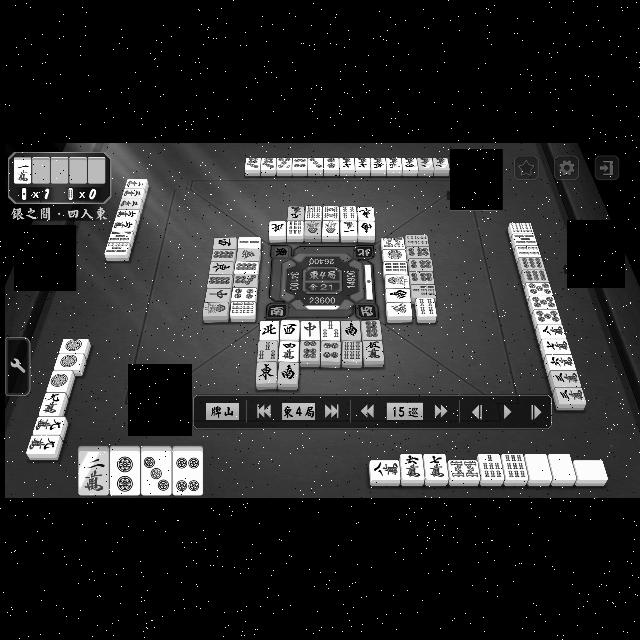1m: (13, 156, 33, 184), (341, 220, 357, 242)
1p: (26, 434, 64, 460), (38, 391, 66, 414), (34, 415, 66, 435), (46, 371, 72, 392), (56, 354, 85, 372), (62, 336, 90, 354), (381, 248, 407, 260)
1s: (202, 302, 228, 322), (320, 220, 340, 244), (384, 274, 410, 286), (306, 219, 320, 241)
2m: (79, 448, 109, 494), (124, 178, 148, 188)
2p: (110, 448, 140, 494), (323, 155, 339, 179)
2s: (238, 235, 260, 249)
3m: (552, 386, 586, 409), (546, 368, 582, 386), (122, 187, 146, 199), (119, 198, 143, 208)
3p: (141, 450, 171, 494), (307, 155, 323, 177)
3s: (322, 320, 340, 340), (258, 340, 276, 360)
4m: (401, 154, 417, 178), (280, 340, 298, 360)
4p: (174, 451, 202, 494), (320, 339, 340, 361), (231, 286, 257, 300), (292, 155, 308, 175)
4s: (416, 296, 438, 324), (512, 244, 542, 256), (404, 234, 428, 246), (340, 203, 356, 220)
5m: (364, 338, 384, 362), (386, 156, 402, 178), (372, 154, 386, 176)
5p: (527, 295, 559, 309), (532, 309, 564, 323), (276, 154, 292, 178), (524, 282, 554, 294)
5s: (106, 240, 130, 260), (508, 233, 540, 243), (108, 229, 134, 241)
6m: (542, 354, 580, 370), (401, 454, 425, 478), (116, 208, 140, 220), (113, 218, 137, 230)
6p: (300, 341, 318, 362), (409, 270, 435, 284), (409, 258, 433, 270), (407, 246, 431, 258)
6s: (229, 300, 255, 320), (343, 339, 363, 361), (508, 222, 534, 234), (304, 204, 322, 220)
7m: (427, 454, 448, 478), (539, 339, 571, 353), (339, 154, 355, 178), (355, 157, 371, 176)
7p: (233, 272, 259, 286), (245, 156, 261, 176), (260, 156, 276, 176)
7s: (482, 453, 502, 477), (410, 284, 438, 296)
8m: (370, 459, 400, 479), (536, 324, 568, 338)
8p: (362, 318, 382, 338), (206, 274, 232, 288), (234, 260, 260, 272), (210, 250, 236, 260)
8s: (448, 460, 480, 478), (381, 234, 405, 248), (324, 204, 338, 220)
9m: (288, 205, 304, 219)
9p: (516, 255, 546, 269), (518, 268, 548, 280)
9s: (504, 452, 526, 478), (288, 219, 304, 241), (384, 261, 408, 273)
chun: (302, 320, 320, 338), (204, 288, 230, 300)
haku: (550, 451, 578, 479), (576, 459, 610, 479), (526, 455, 552, 479)
hatsu: (386, 302, 412, 321), (236, 249, 260, 261)
nan: (356, 220, 376, 244), (341, 320, 362, 338), (384, 287, 410, 301), (280, 360, 296, 382)
pe: (268, 220, 286, 242), (260, 320, 280, 338)
sha: (281, 319, 299, 337), (212, 236, 236, 248)
tou: (258, 361, 276, 384), (210, 260, 232, 274), (357, 204, 375, 220)
